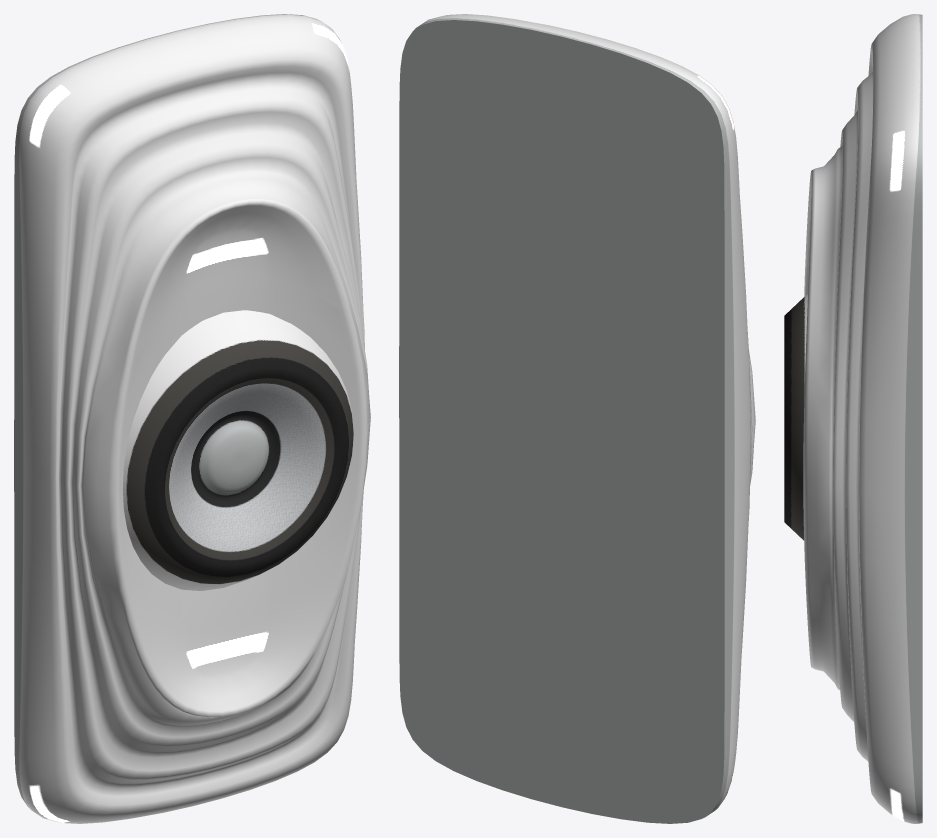
File: SpeakerWall01.FBX
The picture shows the model from 3 angles, left to right: view 1: azimuth 30°, elevation 25°; view 2: azimuth 150°, elevation 25°; view 3: azimuth 270°, elevation 25°; orthographic projection. The views are drawn at different scales.
Visible parts, largest first — view 1: SpeakerWall01; view 2: SpeakerWall01; view 3: SpeakerWall01.
Part boxes in pixels (x1,y1,x2,y2): SpeakerWall01: (14,14,370,823); SpeakerWall01: (399,14,755,823); SpeakerWall01: (784,14,922,823).
Size of what is drawn, in the model's own units: 0.4183 by 0.946 by 0.1642.
